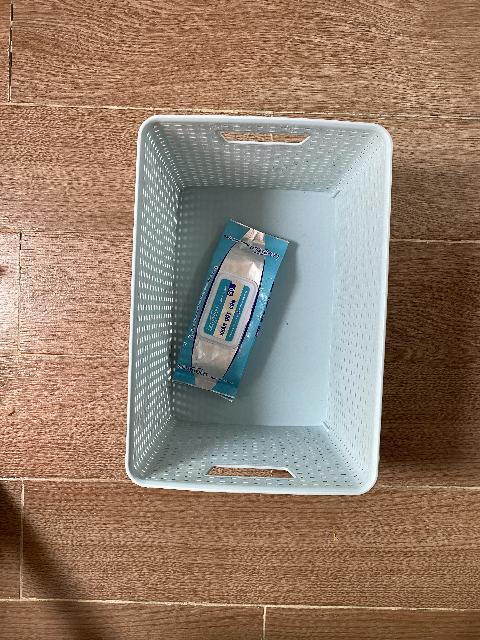Let-green_alcohol_wipes: (172, 218, 289, 402)
cart: (125, 114, 393, 497)
